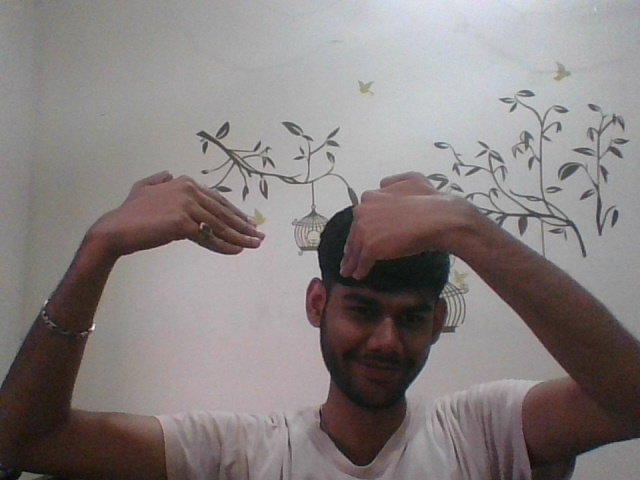I am Utkarsh: (116, 135, 478, 315)
